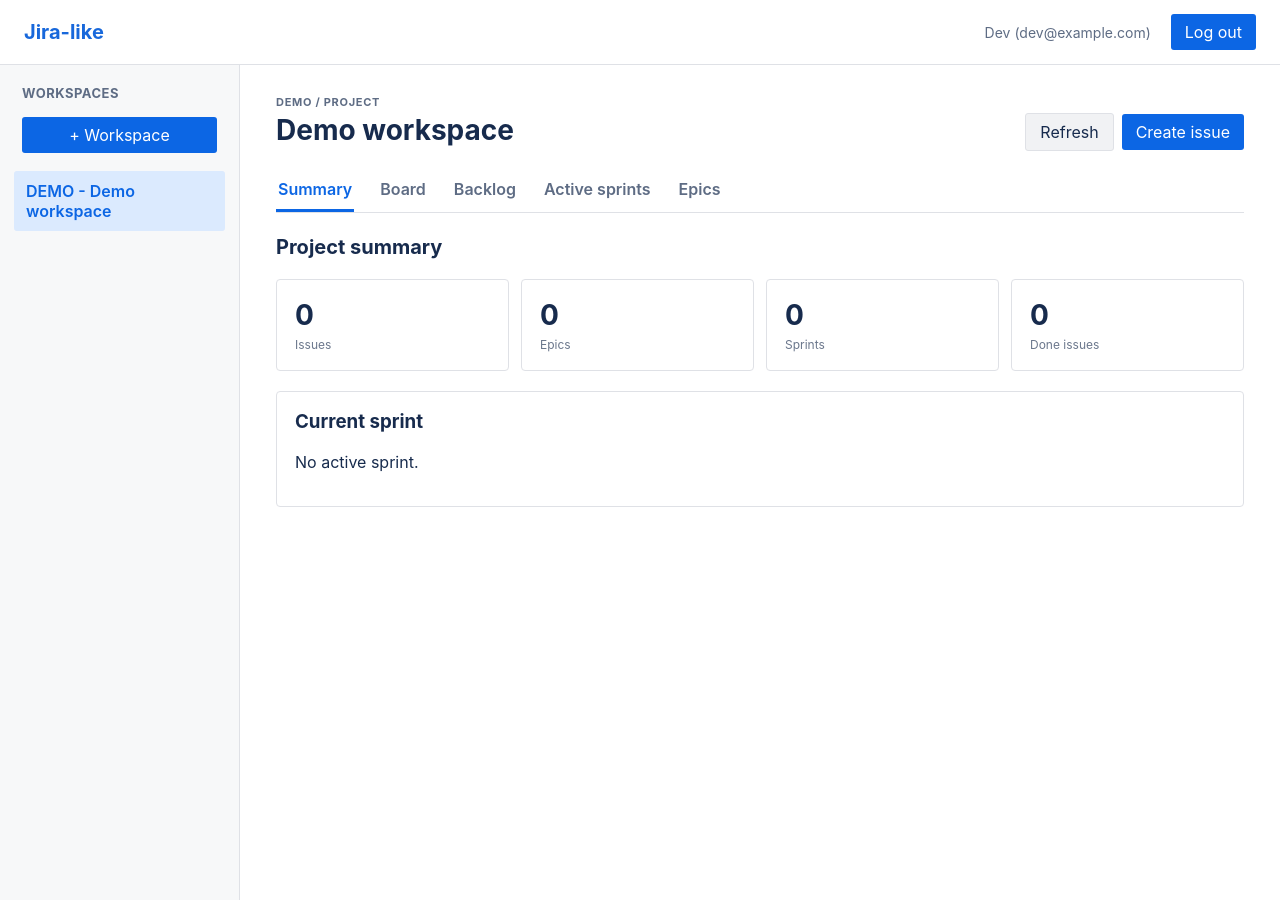
App › authenticates, loads a workspace, switches views, and logs out
Expected: the heading "Demo workspace" is shown, [276,113,514,147]
Expected: the heading "Project summary" is shown, [276,235,442,259]
Click the button "Board": (403, 190) [378,169,428,212]
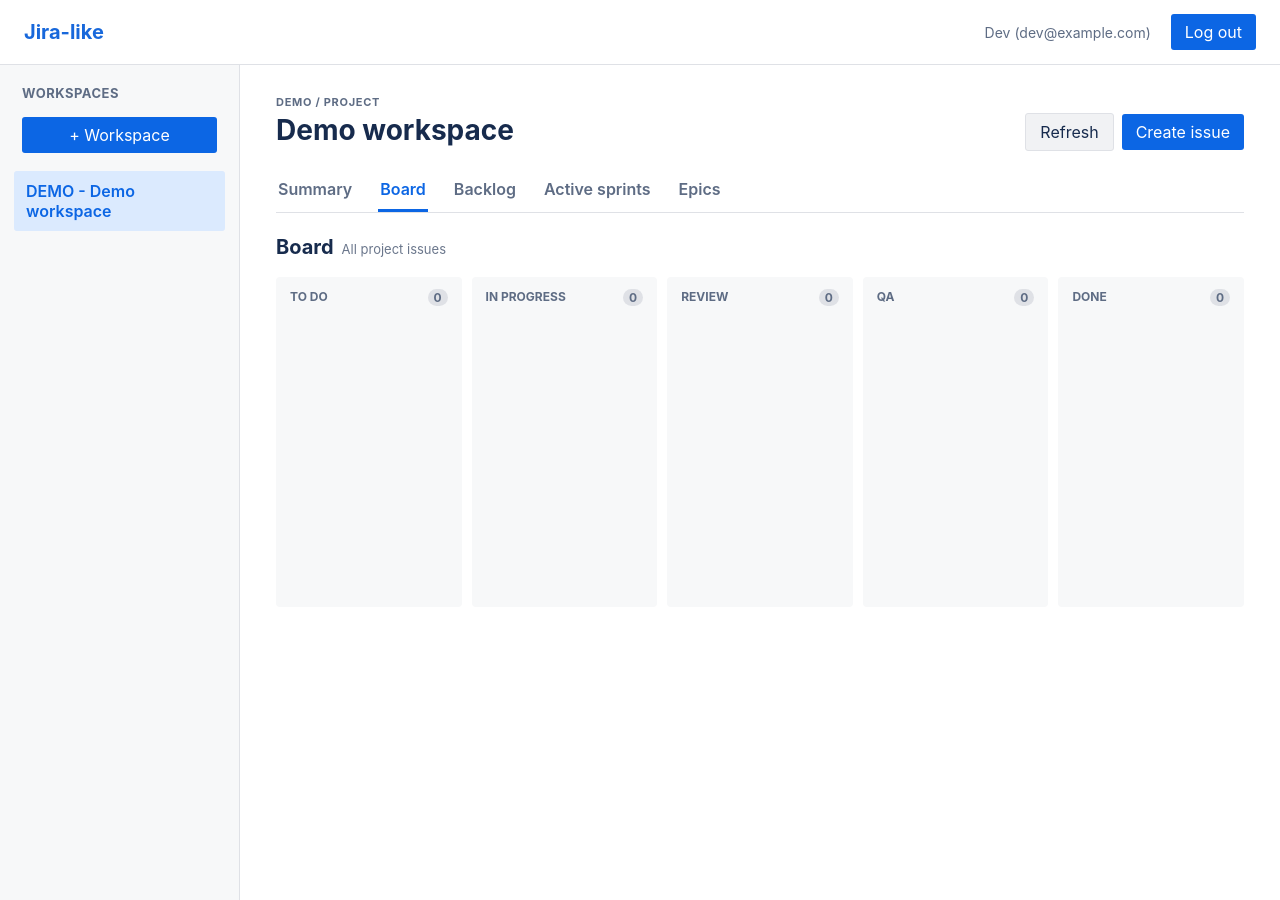
Now the text "All project issues" is shown, box [342,241,446,257]
Click the button "Log out": (1213, 32) [1171,14,1256,50]
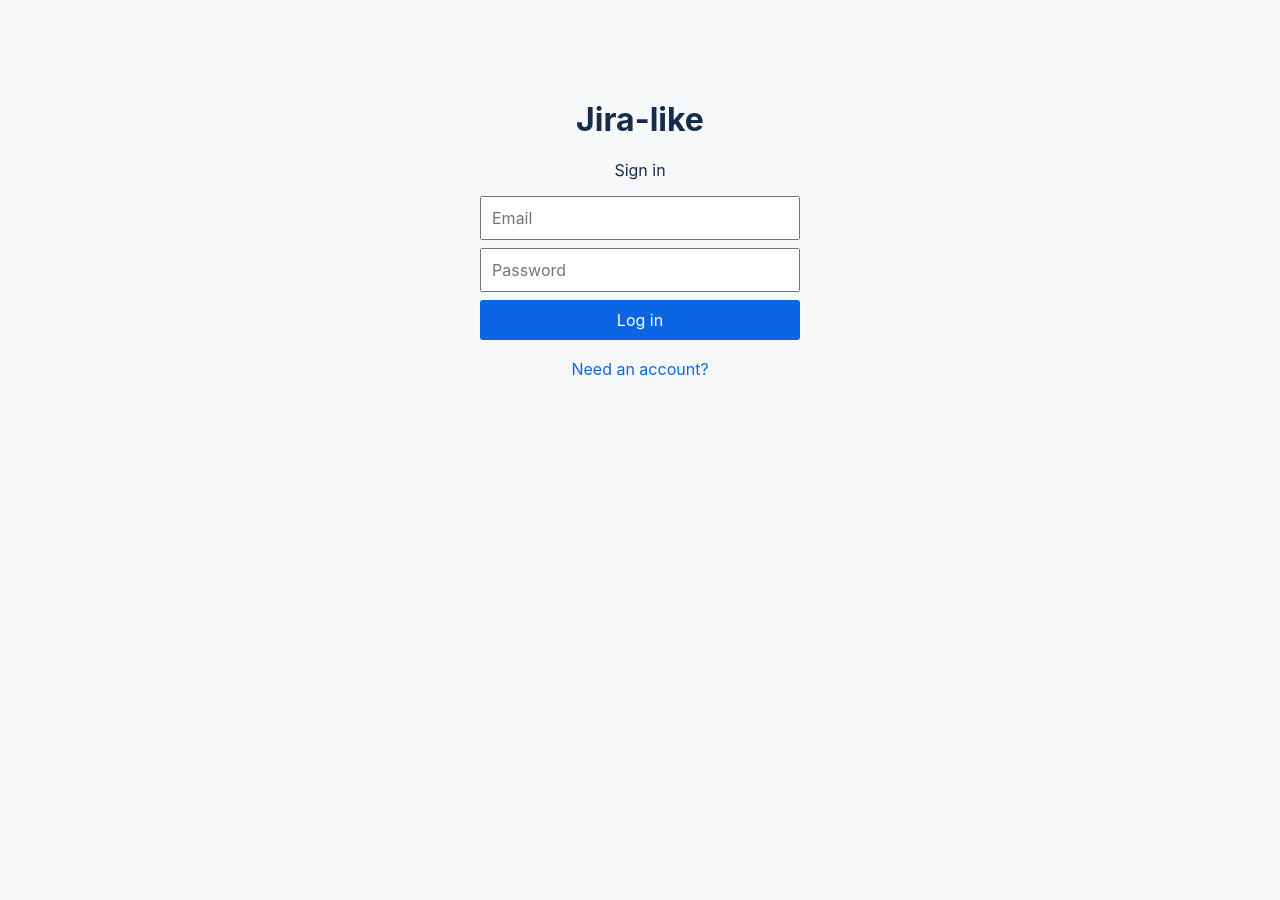
Now the text "Sign in" is shown, box [614,160,666,180]
